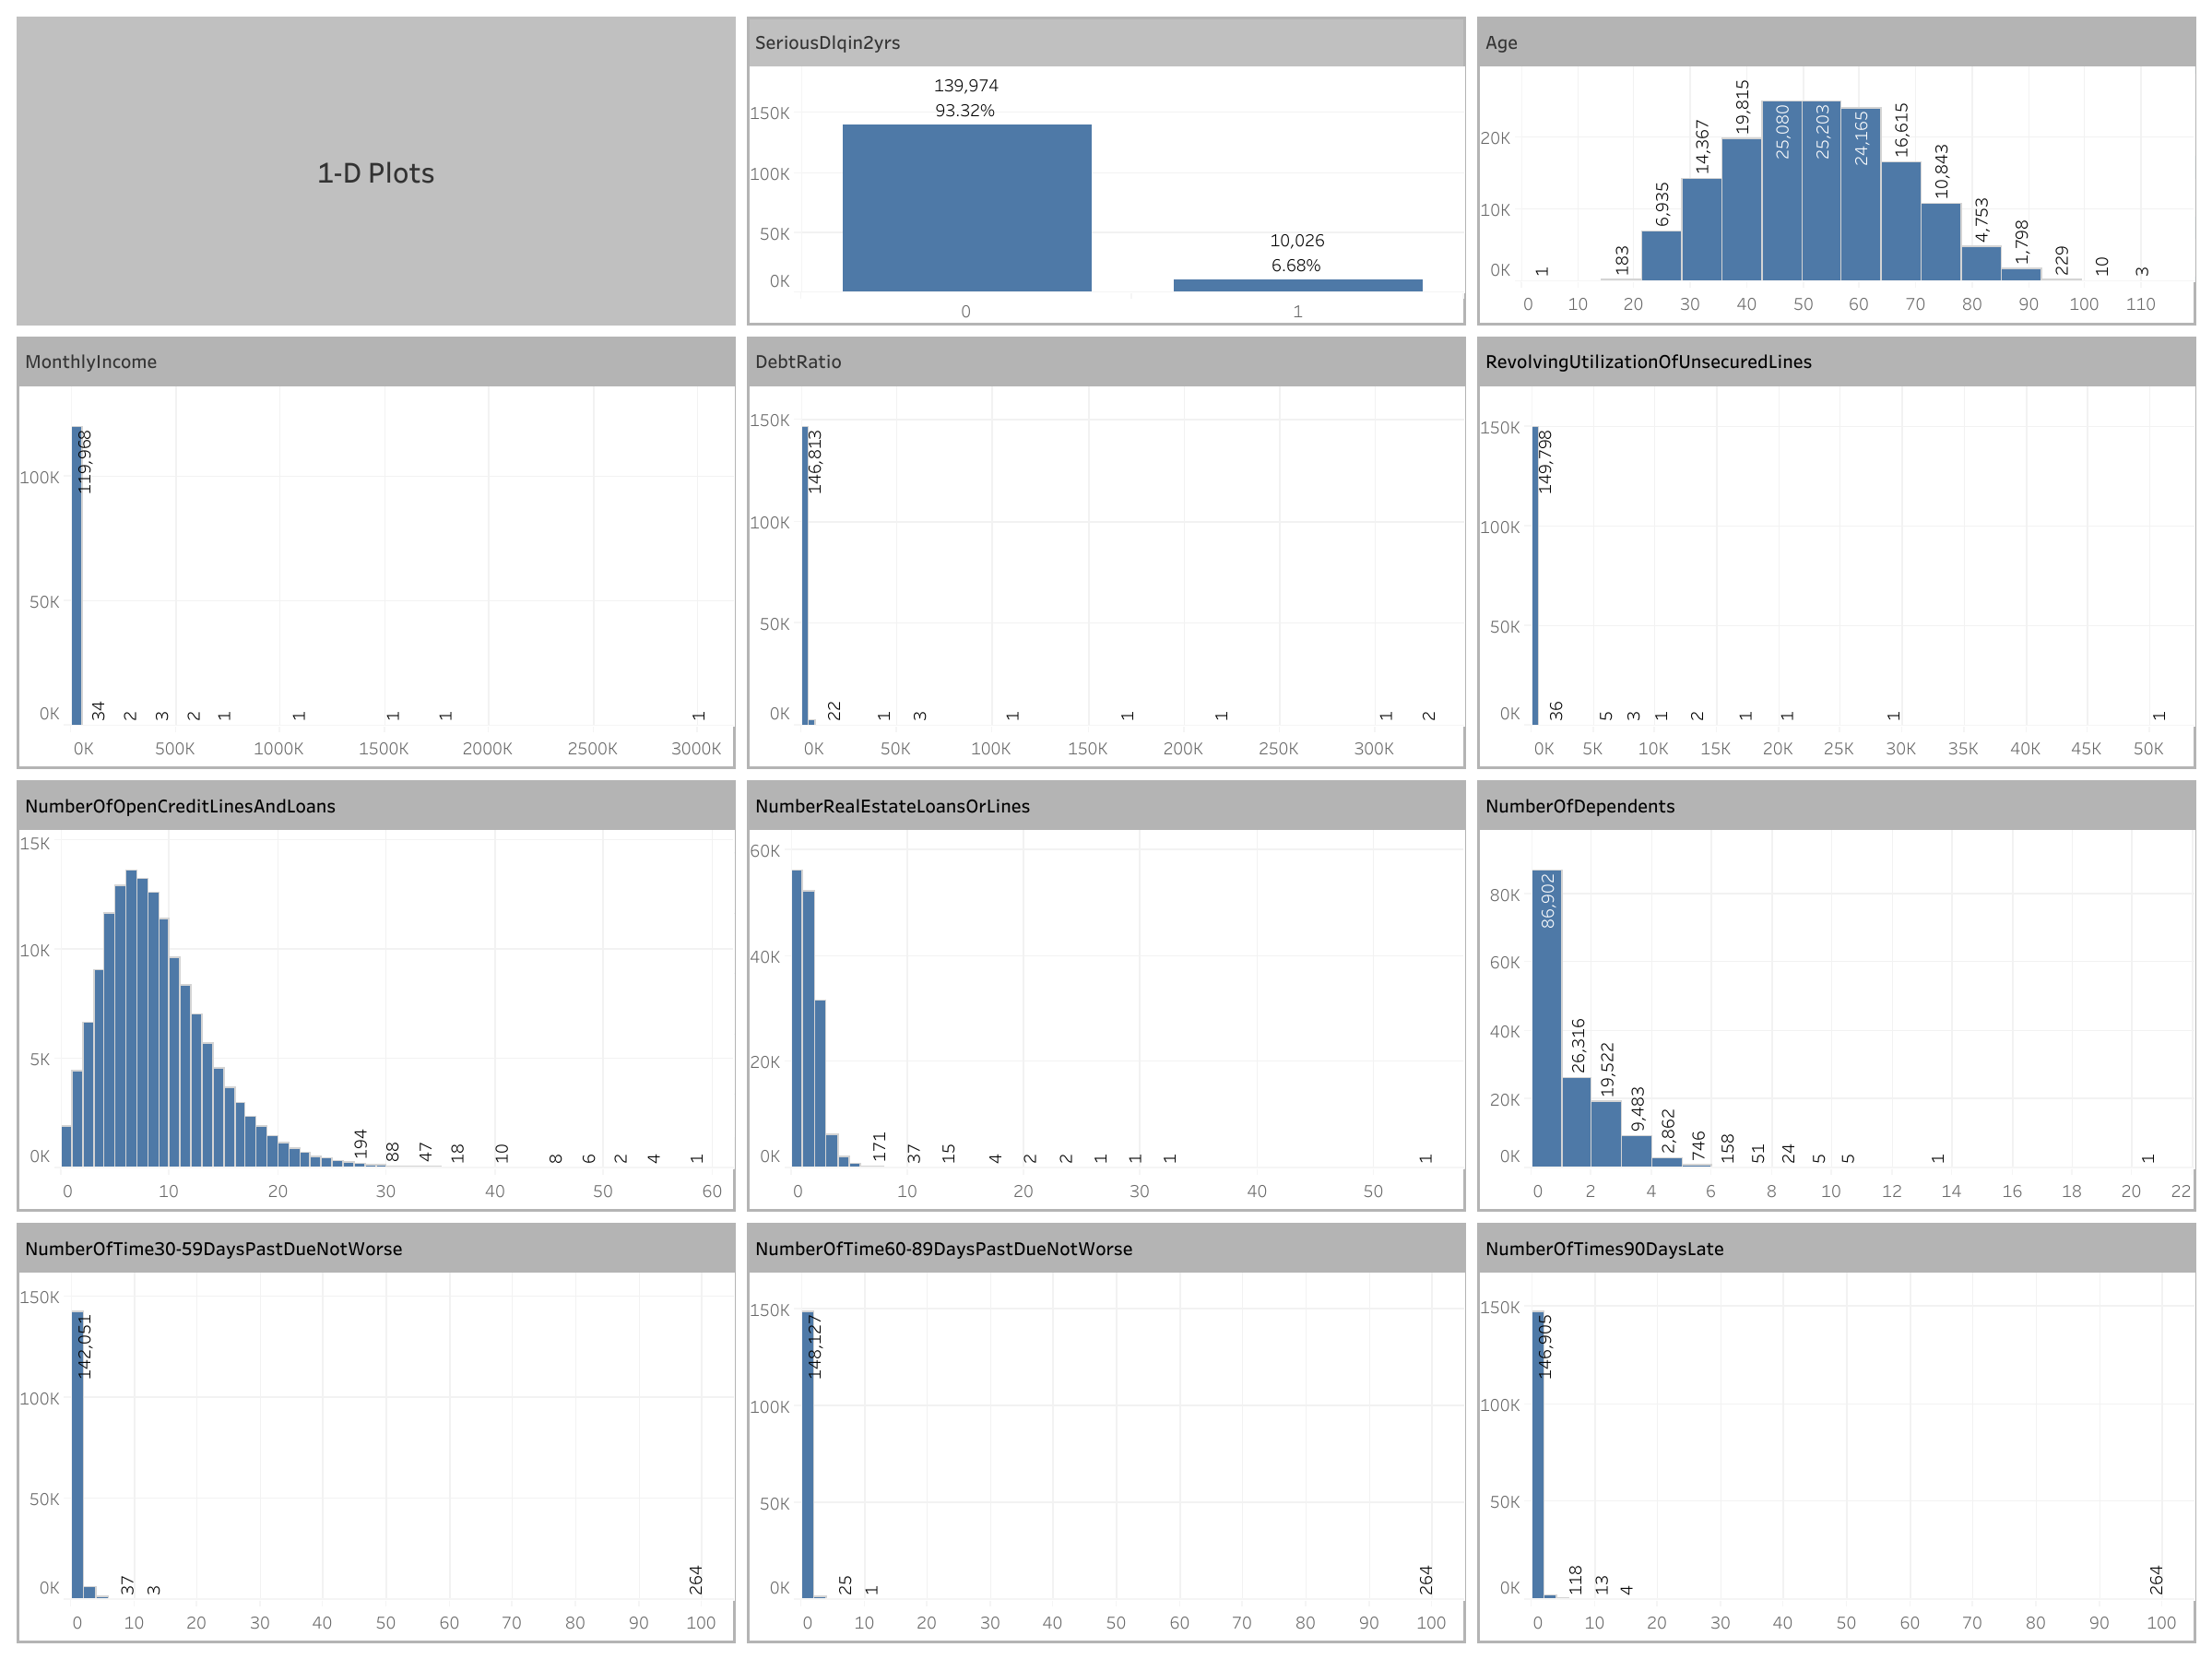

This screenshot's page, from the dashboard's own definition file:
{"tool":"tableau","page":{"name":"1D plots","canvas":[1000,1000],"units":"permille","ordinal":0},"visuals":[{"type":"worksheet","box":[0,0,1000,1000]},{"type":"worksheet","param":"horz","box":[5,6.5,990,987.1]},{"type":"worksheet","box":[5,6.5,990,987.1]},{"type":"worksheet","param":"horz","box":[5,6.5,990,192.2]},{"type":"worksheet","box":[5,6.5,330,192.1]},{"type":"worksheet","title":"SeriousDlqin2yrs","mark":"Automatic","rows":["sample_data_2B454D6A511C49B8A34A2072FAABE5C8"],"cols":["SeriousDlqin2yrs"],"box":[335,6.5,330,192.1]},{"type":"worksheet","title":"age bin","mark":"Automatic","rows":["age"],"cols":["Age (ビン)"],"box":[665,6.5,330,192.1]},{"type":"worksheet","title":"month income bin","mark":"Automatic","rows":["MonthlyIncome"],"cols":["Monthly Income (ビン)"],"box":[5,198.6,330,268]},{"type":"worksheet","title":"Debt ratio bin","mark":"Automatic","rows":["DebtRatio"],"cols":["Debt Ratio (ビン)"],"box":[335,198.6,330,268]},{"type":"worksheet","title":" Revolving bin","mark":"Automatic","rows":["RevolvingUtilizationOfUnsecuredLines"],"cols":["Revolving Utilization Of Unsecured Lines (ビン)"],"box":[665,198.6,330,268]},{"type":"worksheet","param":"horz","box":[5,198.7,990,268.2]},{"type":"worksheet","param":"horz","box":[5,466.9,990,266.8]},{"type":"worksheet","box":[5,466.9,990,266.8]},{"type":"worksheet","param":"horz","box":[5,466.9,330,266.8]},{"type":"worksheet","title":"# open credit bin","mark":"Automatic","rows":["NumberOfOpenCreditLinesAndLoans"],"cols":["Number Of Open Credit Lines And Loans (ビン)"],"box":[5,466.9,330,266.8]},{"type":"worksheet","box":[335,466.9,660,266.8]},{"type":"worksheet","param":"horz","box":[335,466.9,330,266.8]},{"type":"worksheet","title":"# real estate bin","mark":"Automatic","rows":["NumberRealEstateLoansOrLines"],"cols":["Number Real Estate Loans Or Lines (ビン)"],"box":[335,466.9,330,266.8]},{"type":"worksheet","param":"horz","box":[665,466.9,330,266.8]},{"type":"worksheet","title":"# dependents bin","mark":"Automatic","rows":["NumberOfDependents"],"cols":["Number Of Dependents (ビン)"],"box":[665,466.9,330,266.8]},{"type":"worksheet","param":"vert","box":[5,733.7,990,259.9]},{"type":"worksheet","param":"horz","box":[5,733.7,990,259.9]},{"type":"worksheet","param":"horz","box":[5,733.7,990,259.9]},{"type":"worksheet","title":"# 30-59 bin","mark":"Automatic","rows":["NumberOfTime3059DaysPastDueNotWorse"],"cols":["NumberOfTime3059DaysPastDueNotWorse (ビン)"],"box":[5,733.7,330,259.9]},{"type":"worksheet","title":"# 60-89 bin","mark":"Automatic","rows":["NumberOfTime6089DaysPastDueNotWorse"],"cols":["NumberOfTime6089DaysPastDueNotWorse (ビン)"],"box":[335,733.7,330,259.9]},{"type":"worksheet","title":"# 90+ bin","mark":"Automatic","rows":["NumberOfTimes90DaysLate"],"cols":["NumberOfTimes90DaysLate (ビン)"],"box":[665,733.7,330,259.9]}]}

Visuals, with their boxes on the dashboard's canvas, which has no fixed pixel size, in thousandths of its width and height (x1, y1, x2, y2). These are canvas units, not pixel positions in the 2212x1659 screenshot, which may show the page scaled, cropped or inside an application window:
worksheet: l=0, t=0, r=1000, b=1000
worksheet: l=5, t=6, r=995, b=994
worksheet: l=5, t=6, r=995, b=994
worksheet: l=5, t=6, r=995, b=199
worksheet: l=5, t=6, r=335, b=199
"SeriousDlqin2yrs" worksheet: l=335, t=6, r=665, b=199
"age bin" worksheet: l=665, t=6, r=995, b=199
"month income bin" worksheet: l=5, t=199, r=335, b=467
"Debt ratio bin" worksheet: l=335, t=199, r=665, b=467
" Revolving bin" worksheet: l=665, t=199, r=995, b=467
worksheet: l=5, t=199, r=995, b=467
worksheet: l=5, t=467, r=995, b=734
worksheet: l=5, t=467, r=995, b=734
worksheet: l=5, t=467, r=335, b=734
"# open credit bin" worksheet: l=5, t=467, r=335, b=734
worksheet: l=335, t=467, r=995, b=734
worksheet: l=335, t=467, r=665, b=734
"# real estate bin" worksheet: l=335, t=467, r=665, b=734
worksheet: l=665, t=467, r=995, b=734
"# dependents bin" worksheet: l=665, t=467, r=995, b=734
worksheet: l=5, t=734, r=995, b=994
worksheet: l=5, t=734, r=995, b=994
worksheet: l=5, t=734, r=995, b=994
"# 30-59 bin" worksheet: l=5, t=734, r=335, b=994
"# 60-89 bin" worksheet: l=335, t=734, r=665, b=994
"# 90+ bin" worksheet: l=665, t=734, r=995, b=994
